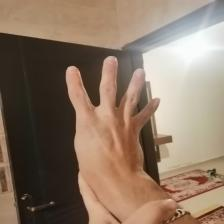four: (61, 53, 163, 174)
